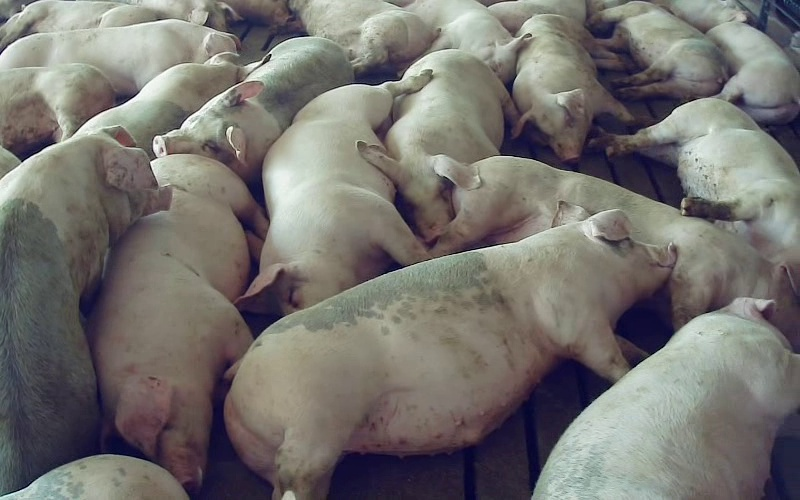pig: (225, 201, 673, 499), (432, 156, 799, 349), (0, 126, 170, 494), (88, 154, 267, 490), (534, 298, 799, 499), (236, 70, 430, 314), (592, 99, 799, 287), (357, 50, 515, 240), (154, 37, 352, 181), (73, 52, 270, 158), (0, 19, 239, 97), (512, 14, 632, 161), (588, 2, 727, 100), (276, 0, 437, 74), (0, 63, 114, 157), (404, 0, 531, 83), (706, 22, 799, 123)
